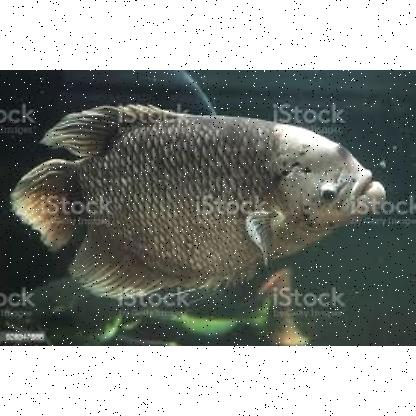gurame: (11, 104, 388, 298)
